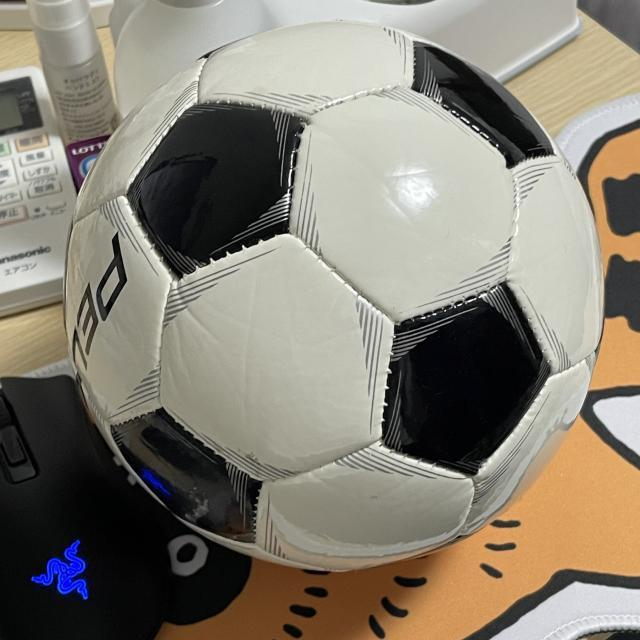ball: (58, 15, 610, 572)
